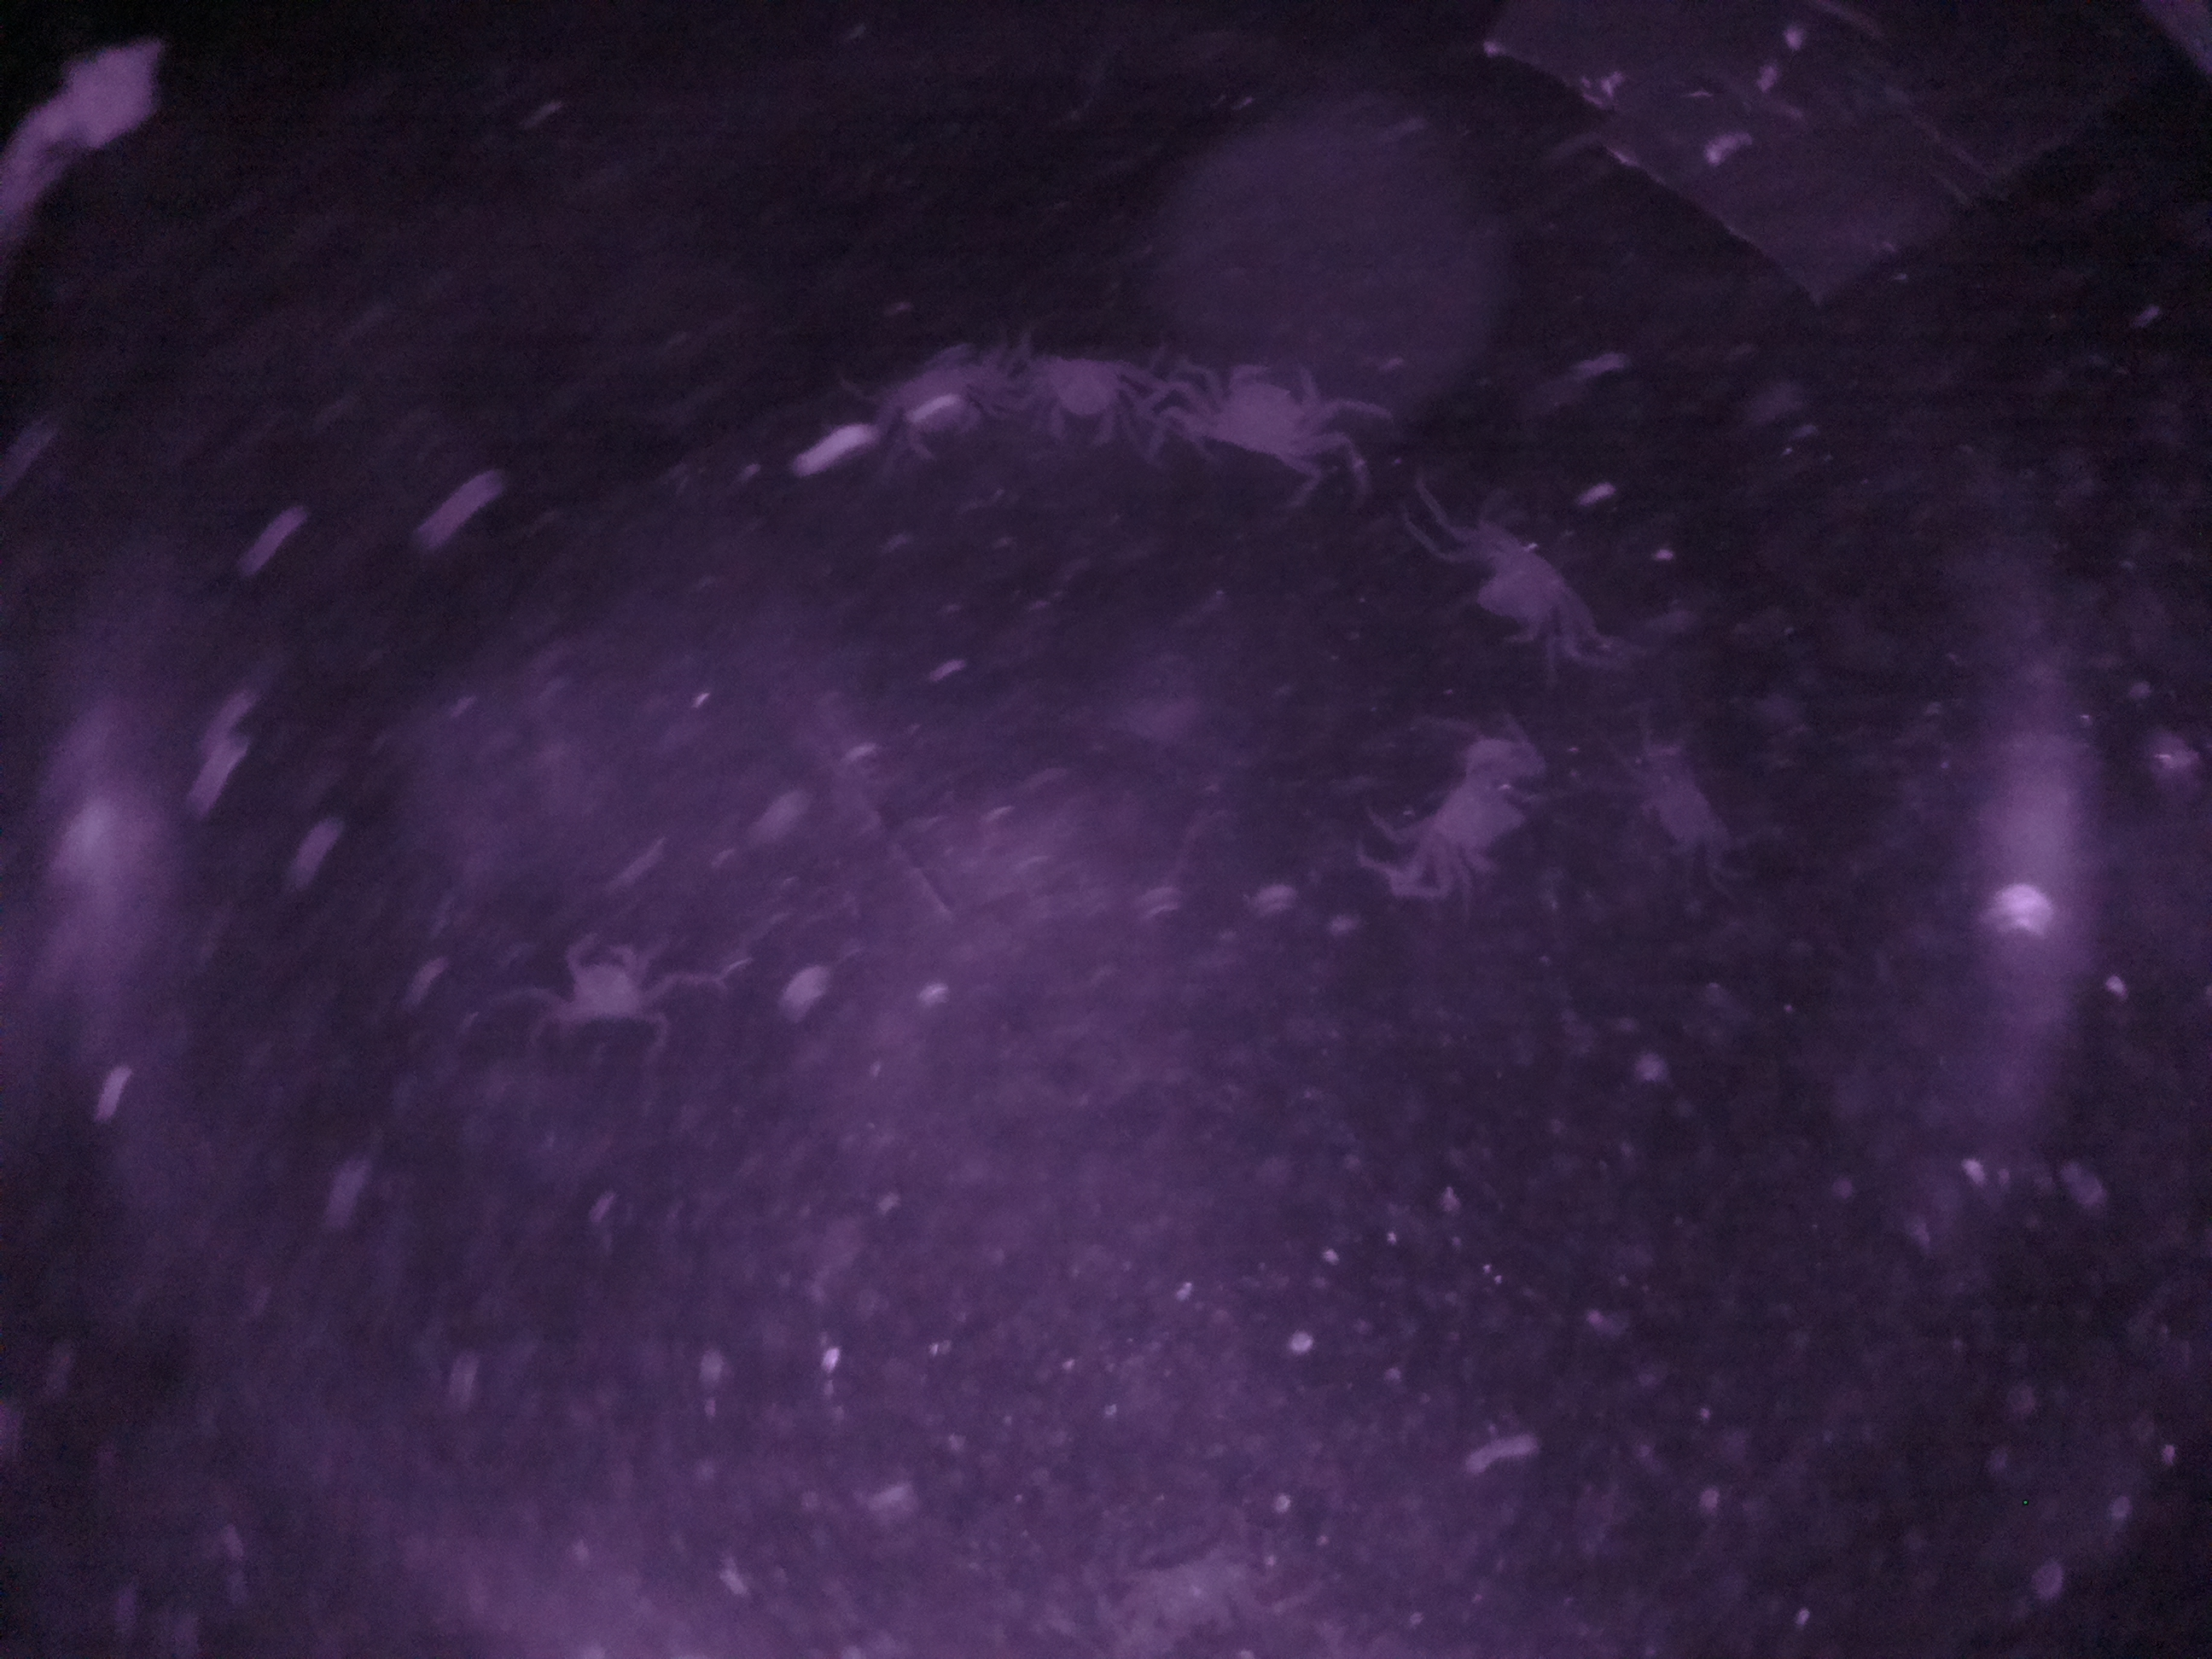Crab: (1397, 491, 1665, 680), (1153, 331, 1392, 500)
